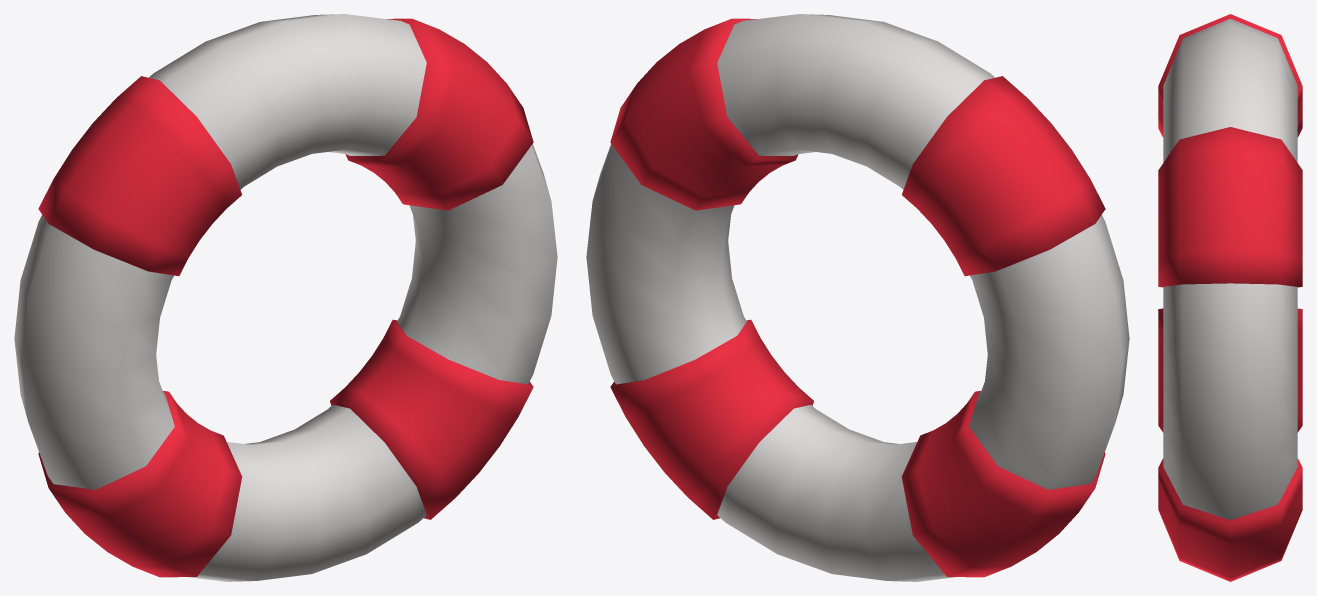
File: life_ring.glb
The picture shows the model from 3 angles, left to right: view 1: azimuth 30°, elevation 25°; view 2: azimuth 150°, elevation 25°; view 3: azimuth 270°, elevation 25°; orthographic projection. The views are drawn at different scales.
Parts seen in each view (by area): view 1: LifeRing; view 2: LifeRing; view 3: LifeRing.
Part boxes in pixels (x1=…): LifeRing: x1=14, y1=14, x2=557, y2=581; LifeRing: x1=586, y1=14, x2=1129, y2=581; LifeRing: x1=1158, y1=14, x2=1302, y2=581.
Bounding box in the file's own units: 0.79 × 0.79 × 0.204.
